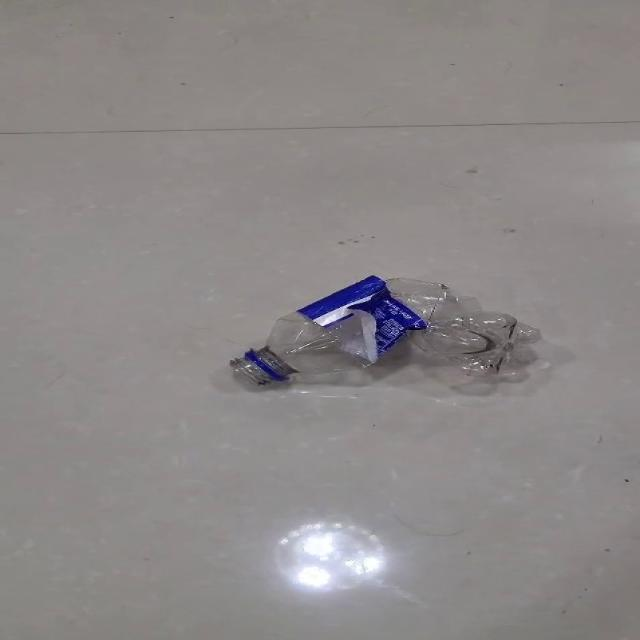plastic: (229, 274, 541, 389)
